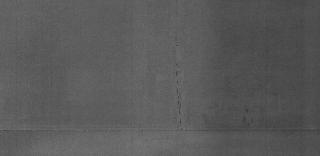oil spot: (172, 40, 190, 130), (238, 108, 256, 124)
welding line: (1, 126, 320, 136)
